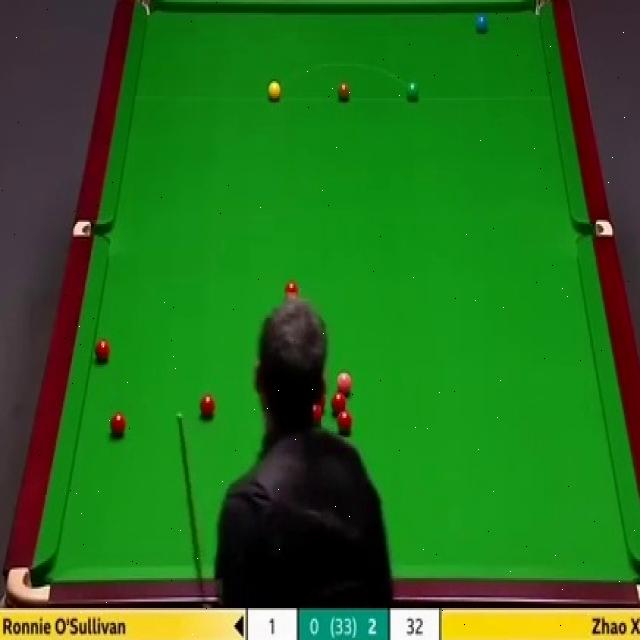blue-ball: (476, 14, 490, 32)
brown-ball: (338, 81, 352, 102)
green-ball: (405, 81, 420, 104)
pink-ball: (336, 368, 352, 395)
red-ball: (94, 339, 112, 364), (198, 392, 216, 417), (336, 408, 353, 434), (110, 412, 126, 437), (329, 391, 346, 414), (283, 281, 299, 298), (312, 402, 323, 426)
yellow-ball: (266, 80, 282, 102)
